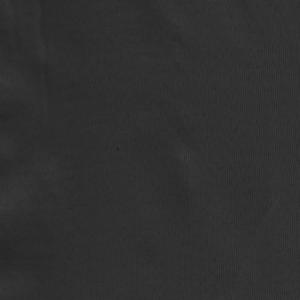Wrinkle: (34, 1, 63, 156)
